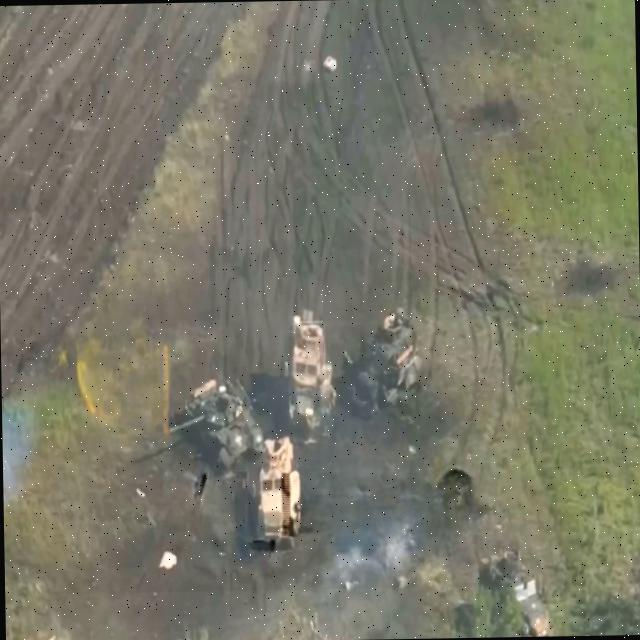Destroyed: (341, 311, 423, 422)
MBT: (166, 378, 264, 478)
Vehicle: (476, 547, 553, 637), (282, 315, 332, 438), (255, 439, 305, 553)
